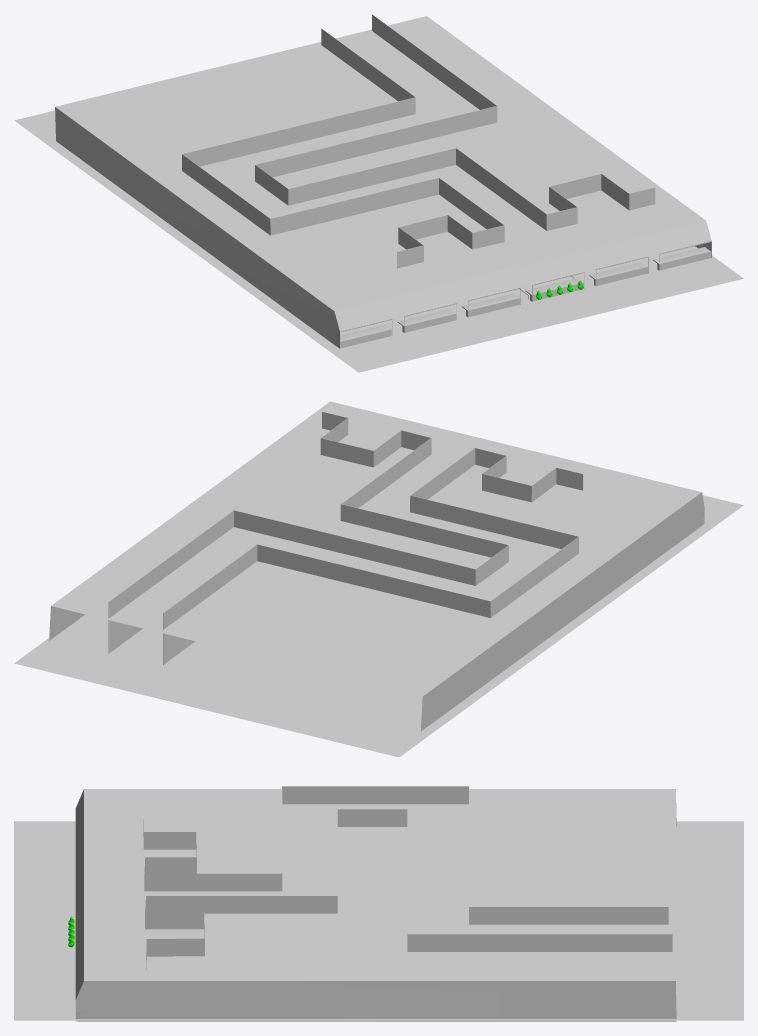
File: map padank.fbx
The picture shows the model from 3 angles, top to bottom: view 1: azimuth 30°, elevation 25°; view 2: azimuth 150°, elevation 25°; view 3: azimuth 270°, elevation 25°; orthographic projection. The views are drawn at different scales.
Visible parts, largest first — view 1: Plane.007, Plane.006, Cube.014, Cube.006, Cube.005, Cube.004, Cube.015, Cube.003; view 2: Plane.007, Plane.006; view 3: Plane.007, Plane.006.
Boxes of the visible parts, x1=… form: Plane.007: x1=14, y1=16, x2=743, y2=372; Plane.006: x1=182, y1=14, x2=655, y2=268; Cube.014: x1=397, y1=303, x2=456, y2=332; Cube.006: x1=461, y1=287, x2=520, y2=317; Cube.005: x1=653, y1=241, x2=711, y2=270; Cube.004: x1=589, y1=256, x2=648, y2=285; Cube.015: x1=337, y1=319, x2=392, y2=348; Cube.003: x1=525, y1=272, x2=584, y2=301; Plane.007: x1=14, y1=401, x2=743, y2=757; Plane.006: x1=108, y1=411, x2=583, y2=664; Plane.007: x1=14, y1=789, x2=743, y2=1021; Plane.006: x1=143, y1=786, x2=672, y2=969.
Size of the model in its own units: 28209 by 3808 by 43700.
